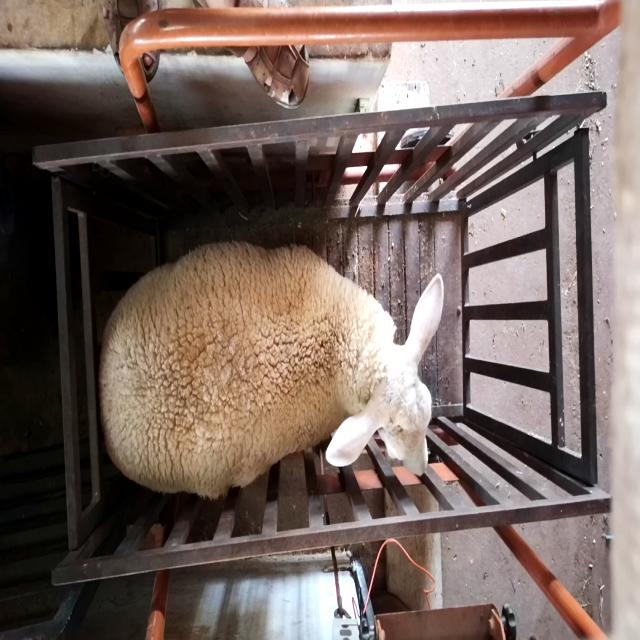sheep: (98, 241, 446, 502)
